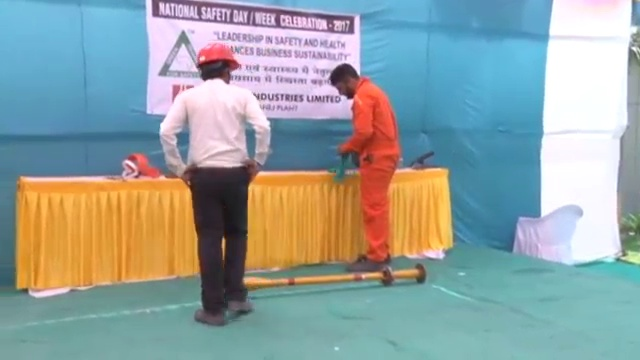helmet: (195, 41, 241, 73)
helmet_off: (329, 63, 360, 98)
helmet_on: (194, 42, 241, 88)
person: (161, 41, 274, 324), (329, 63, 400, 271)
